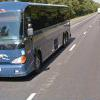Bus: (1, 0, 80, 79)
